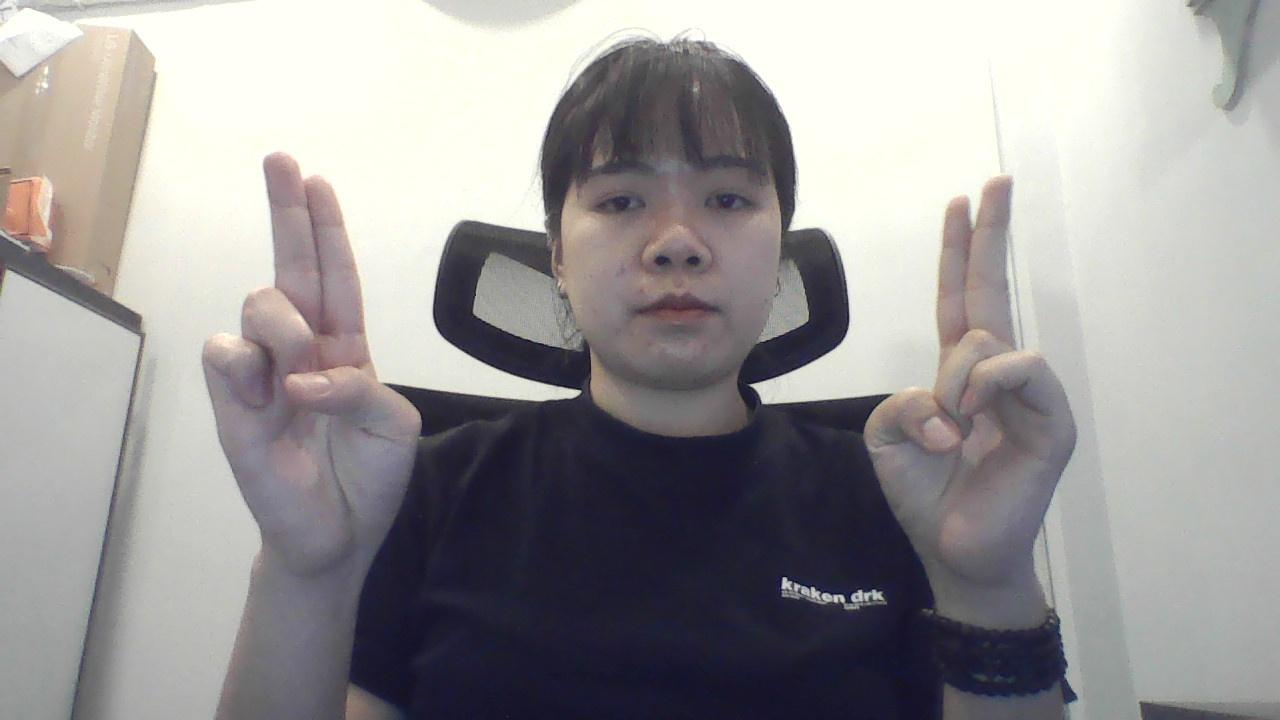U: (192, 142, 429, 611), (841, 170, 1086, 596)
